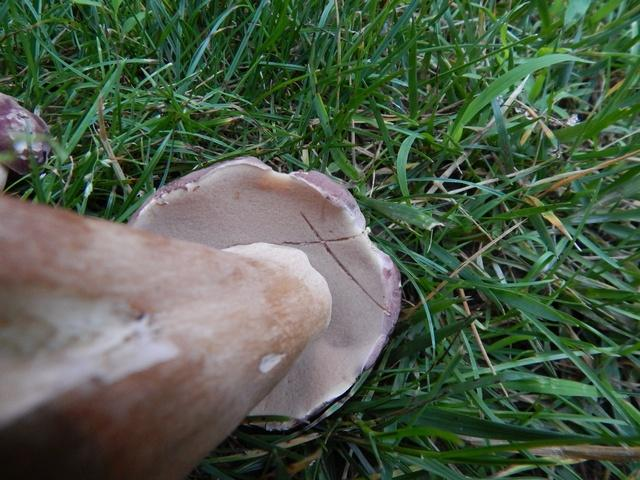poisonous_mushroom: (0, 154, 403, 480)
